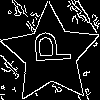P: (26, 29, 71, 65)
